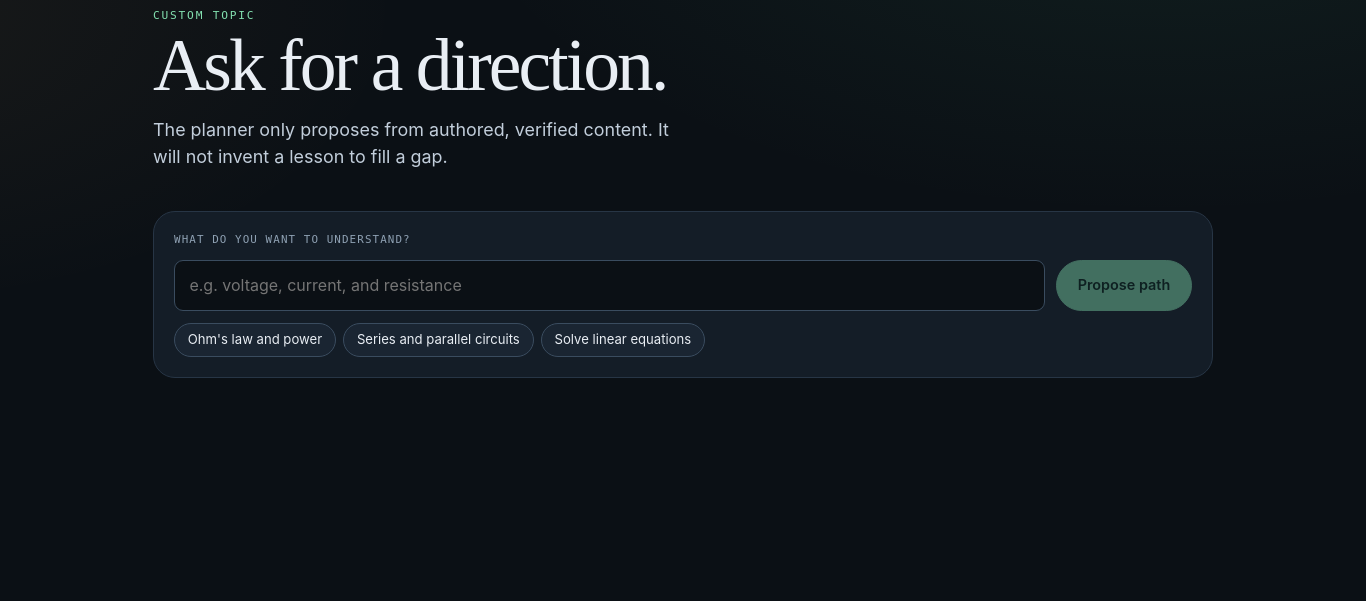
Test: custom topic screen › removes a concept and saves a critic-checked revision
This screenshot has width=1366, height=601.
Step 1. Click the button "Series and parallel circuits" → (438, 340), box left=343, top=323, right=534, bottom=357
(page scrolled)
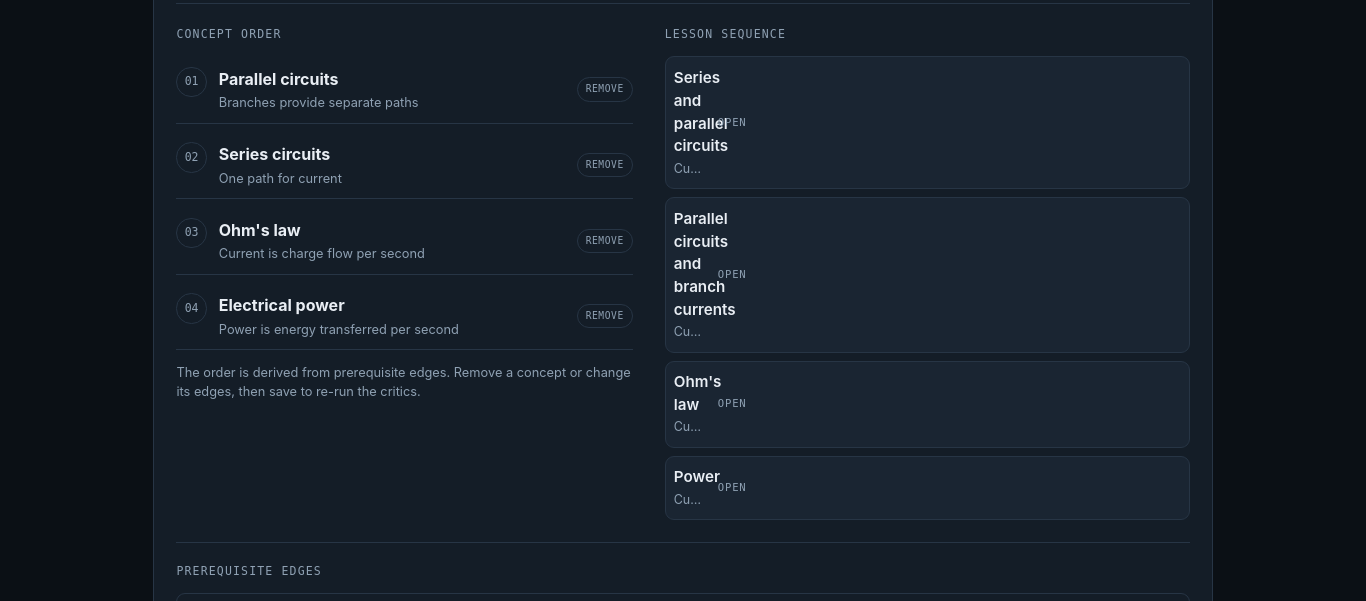
Step 2. Click the button with aria-label "Remove Electrical power" → (605, 316), box left=577, top=304, right=633, bottom=328
(page scrolled)
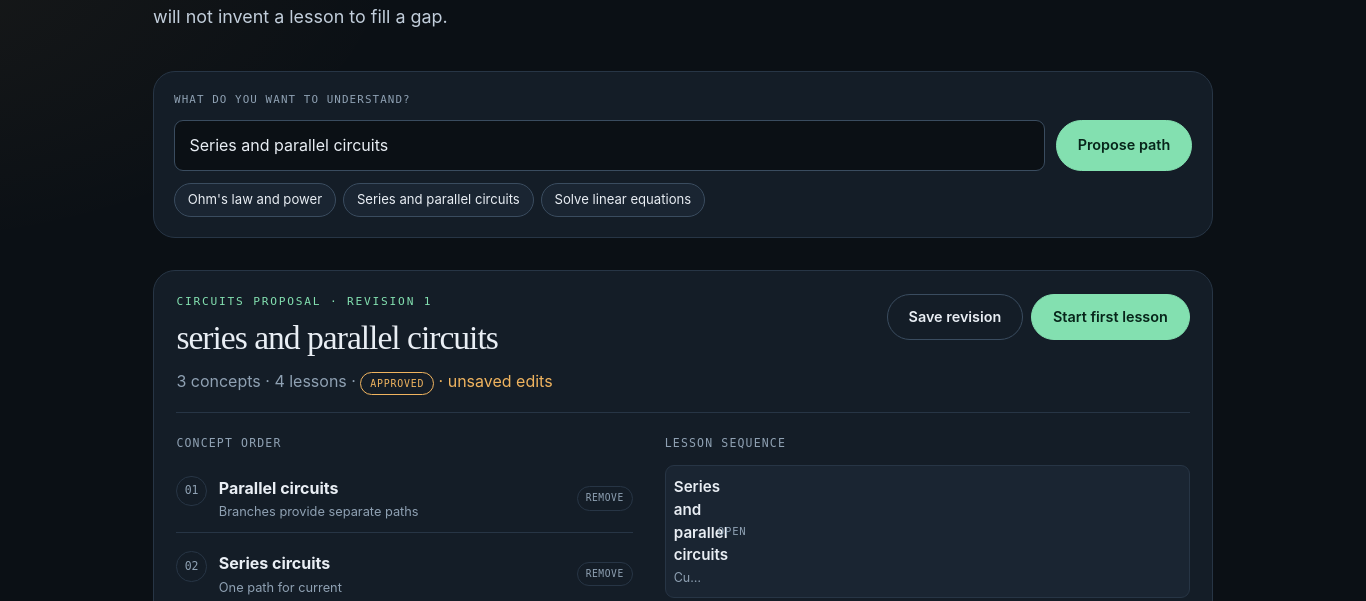
Expected: the text "· unsaved edits" is shown, left=434, top=371, right=553, bottom=391
Step 3. Click the button "Save revision" → (955, 317), box left=887, top=294, right=1023, bottom=340
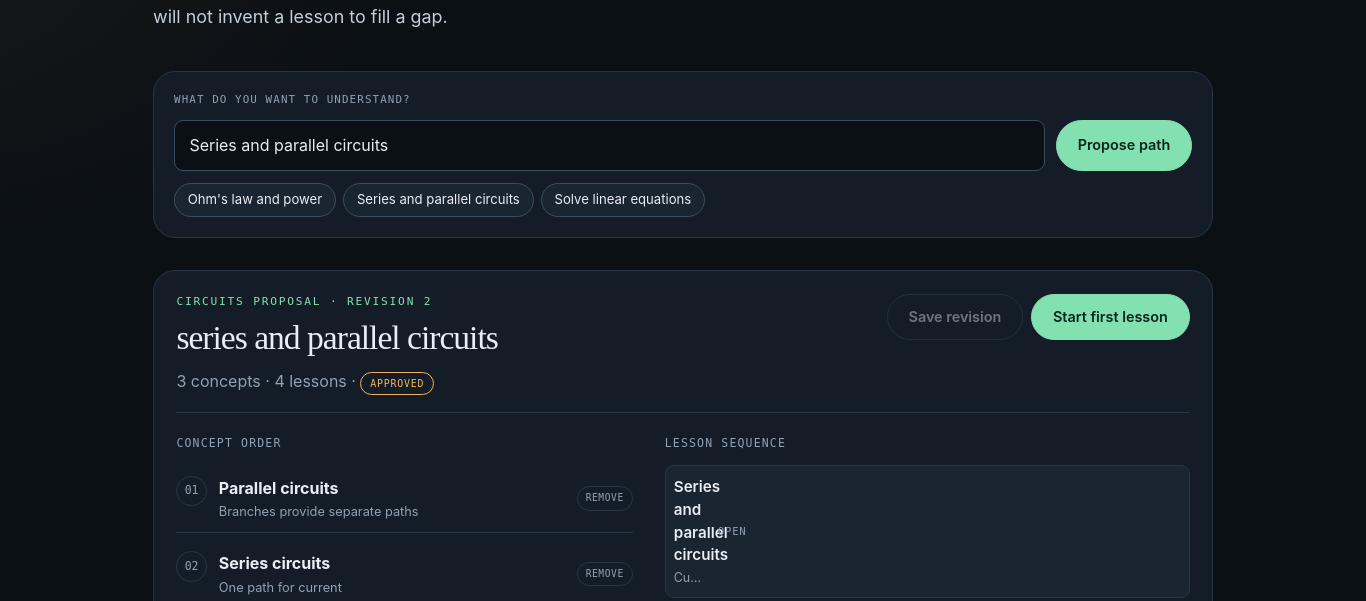
Expected: the text "revision 2" is shown, left=176, top=295, right=432, bottom=308
